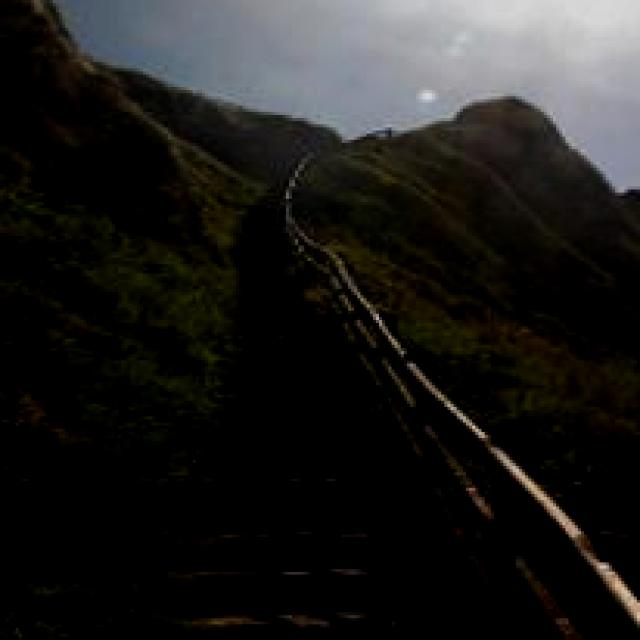upstair: (175, 386, 470, 640)
